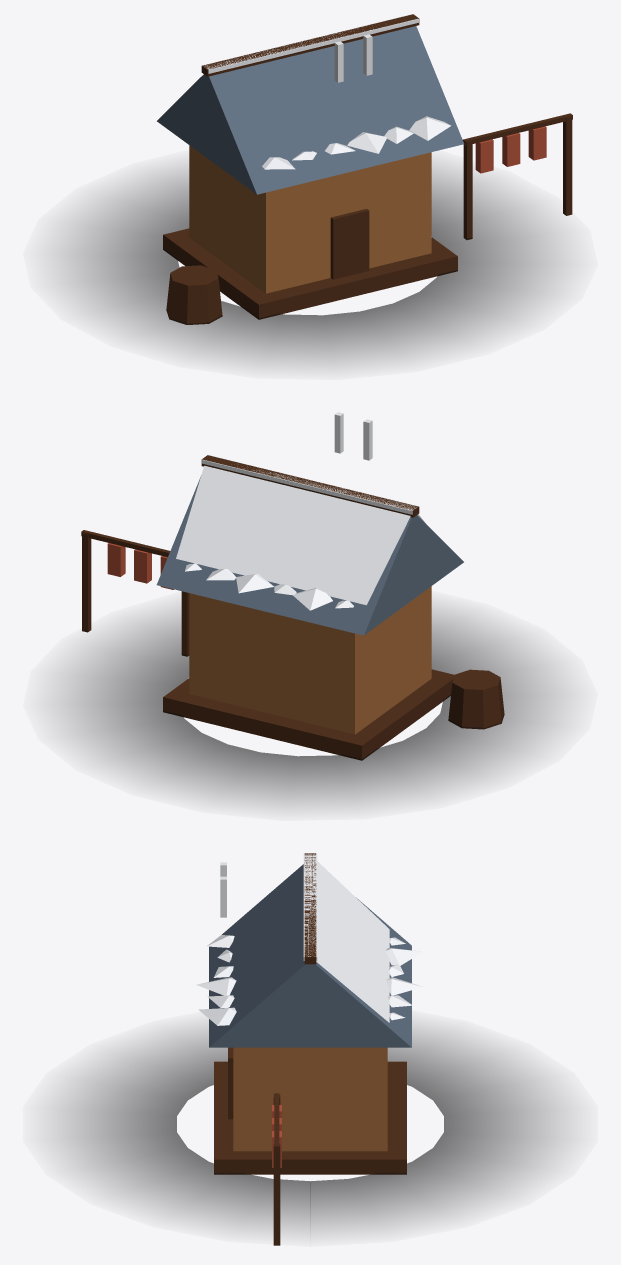
Rendered from hunter_t1.glb.
3 views of the same model, one above another, from view 1: azimuth 30°, elevation 25°; view 2: azimuth 150°, elevation 25°; view 3: azimuth 270°, elevation 25° (orthographic).
Visible parts, largest first — view 1: hunter_t1; view 2: hunter_t1; view 3: hunter_t1.
Boxes of the visible parts, left/top/right/bottom form: hunter_t1: left=59, top=14, right=572, bottom=364; hunter_t1: left=59, top=412, right=561, bottom=805; hunter_t1: left=59, top=853, right=561, bottom=1245.
Bounding box in the file's own units: 7.13 × 3.35 × 7.06.
